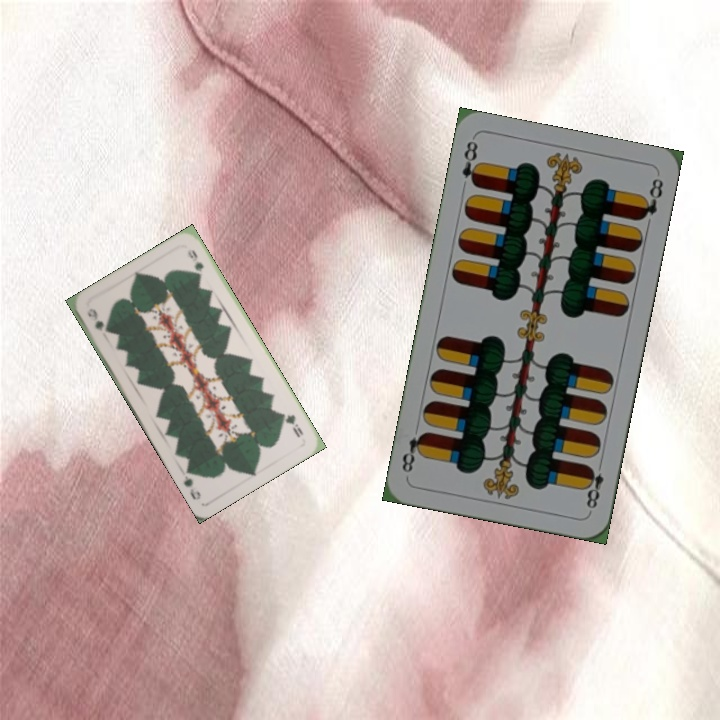E8: (581, 456, 606, 515), (458, 137, 483, 190)
G9: (83, 304, 111, 336), (279, 409, 306, 440)
